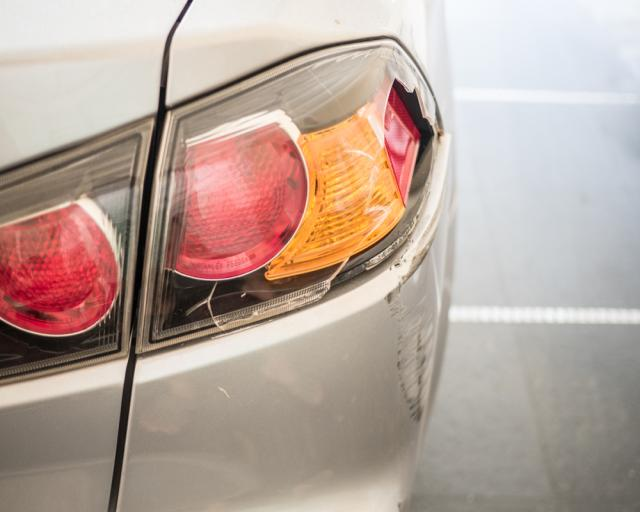lamp broken: (138, 37, 442, 349)
scratch: (385, 234, 437, 420)
